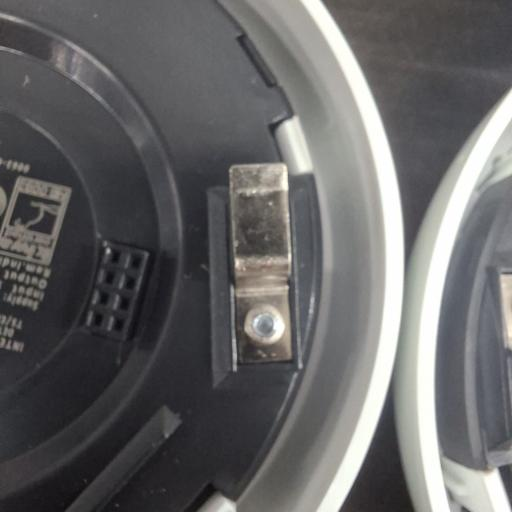yaysiz: (227, 159, 296, 369)
